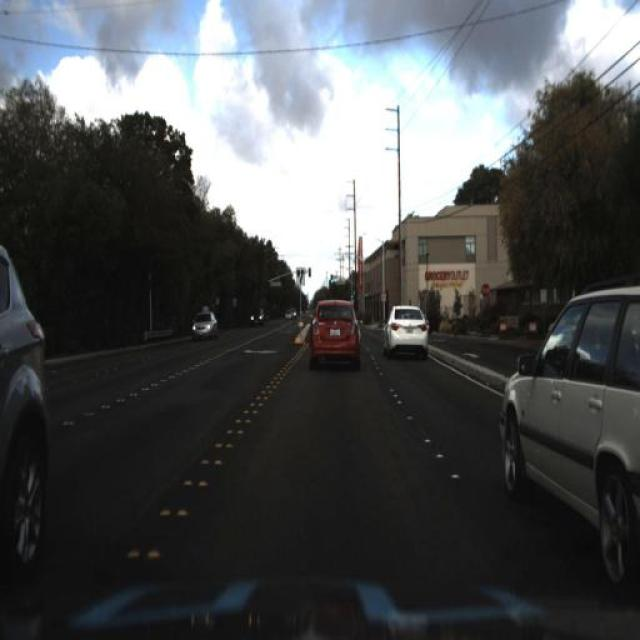car: (498, 266, 640, 578), (0, 238, 51, 592), (296, 291, 370, 383), (374, 288, 442, 363), (190, 311, 216, 345), (248, 300, 266, 330)
